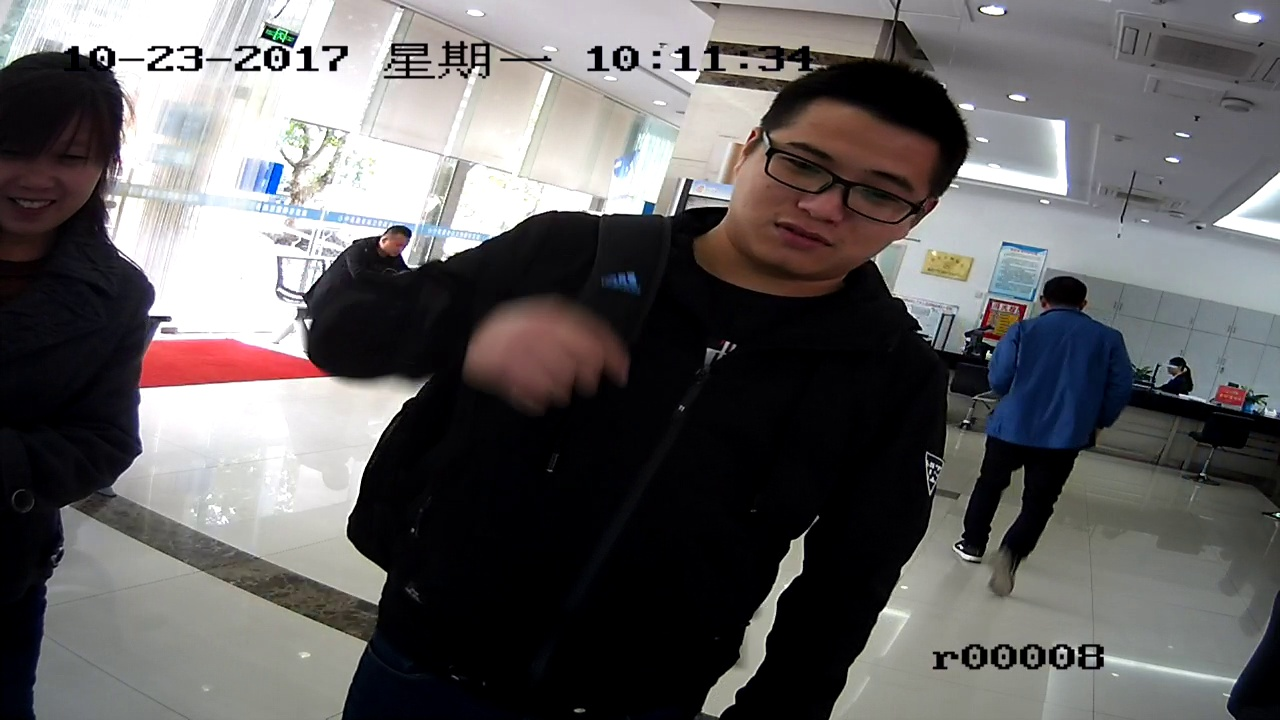billboard: (995, 232, 1041, 308)
chair: (1194, 409, 1256, 498)
person: (420, 63, 958, 668), (6, 54, 149, 487), (985, 274, 1118, 594), (1155, 352, 1195, 403)
